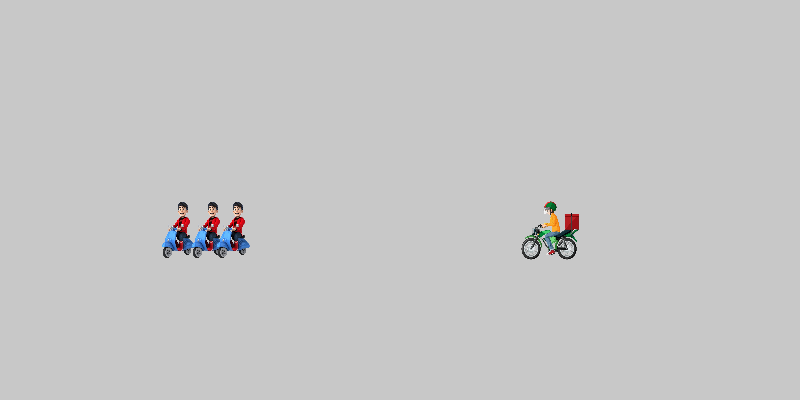helmet: (520, 200, 580, 260)
no_helmet: (150, 200, 210, 260), (180, 200, 240, 260), (205, 200, 265, 260)
